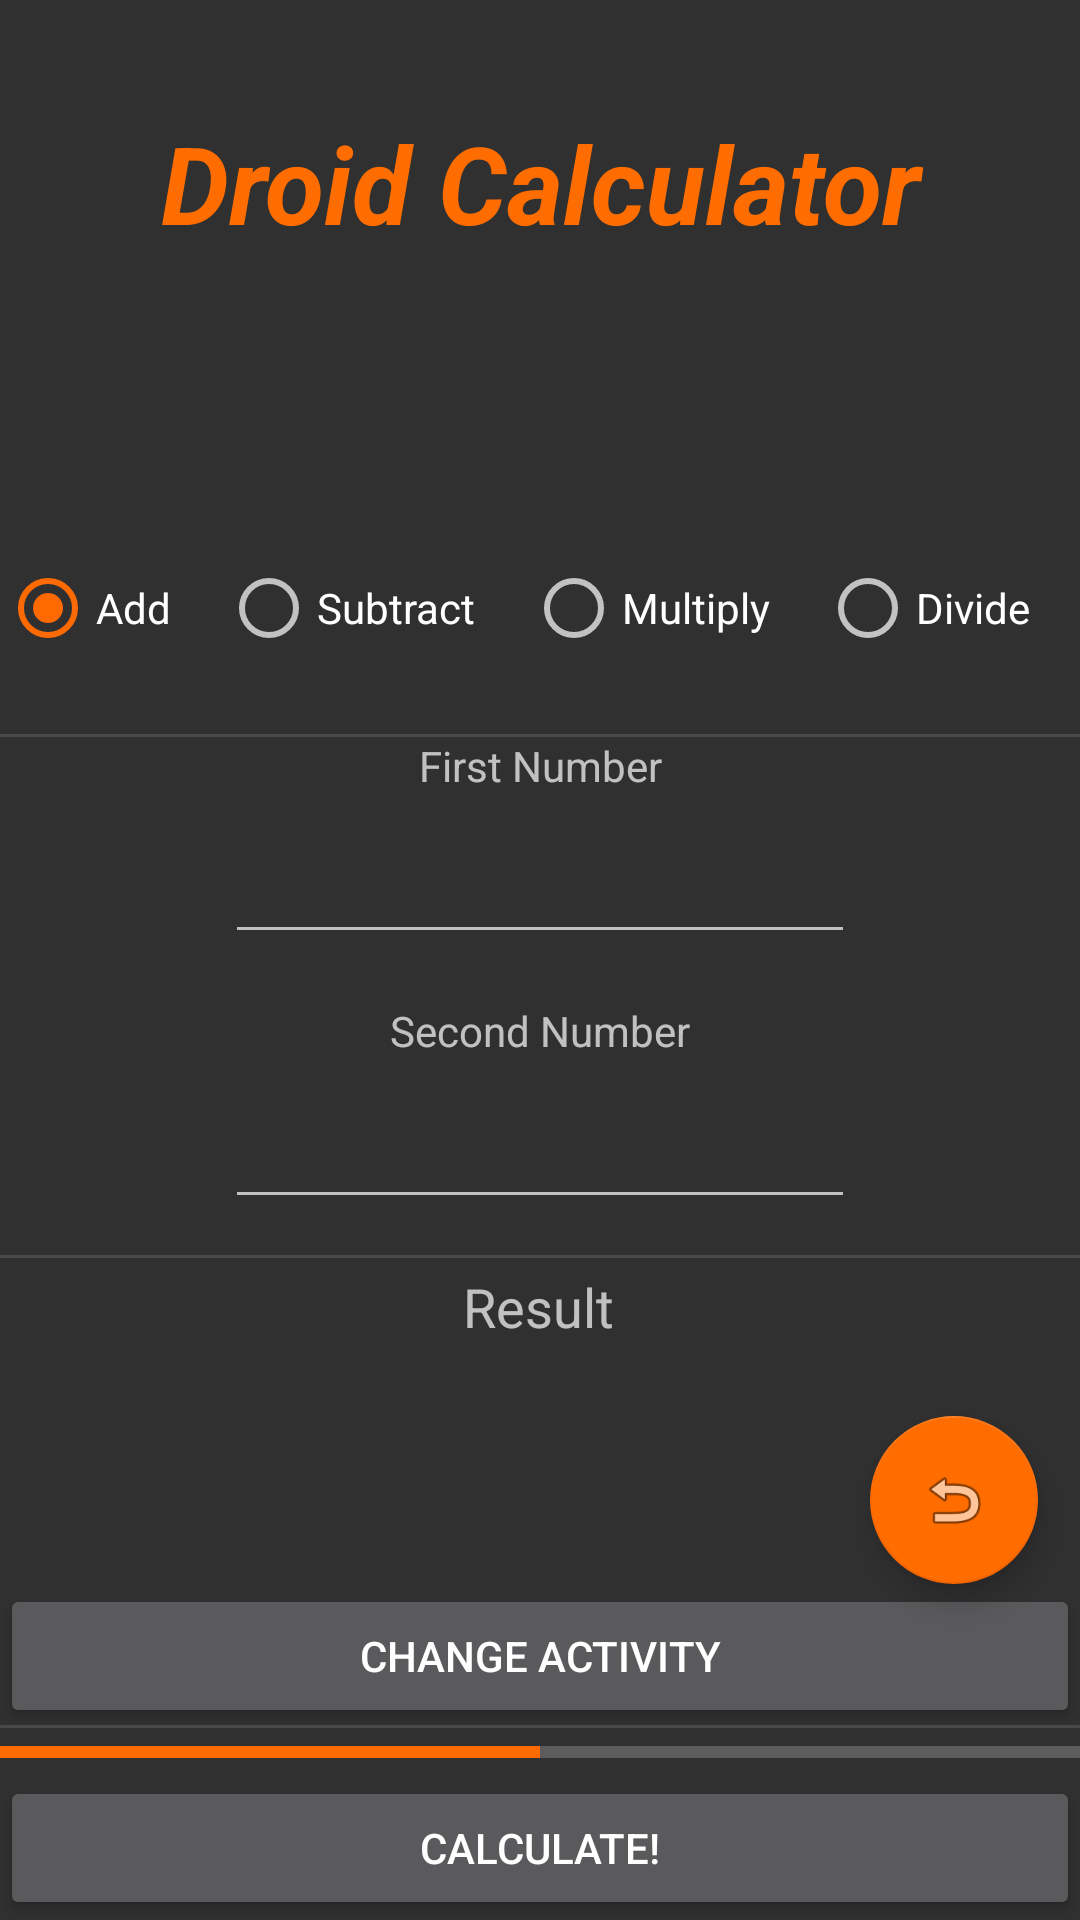

Point at icon controls on the screen. Image size 1080w x 1920h, points as (x,y).
revert: (954,1500)
